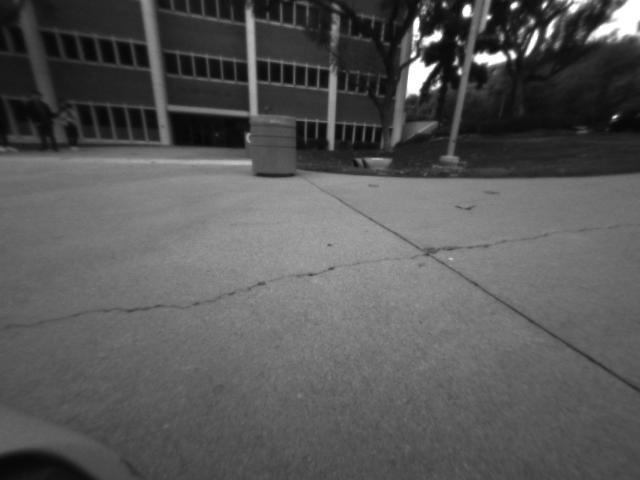trashcan: (244, 109, 303, 181)
